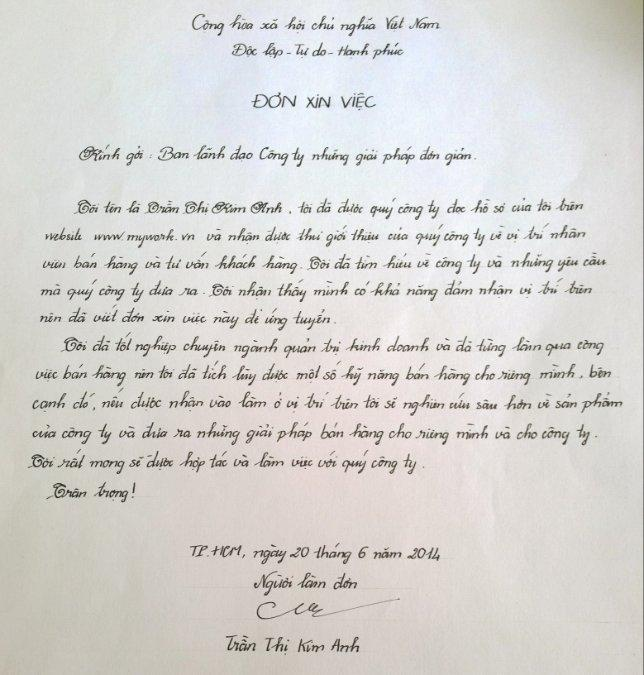text: (31, 387, 624, 418), (34, 357, 613, 388), (43, 220, 587, 250), (31, 419, 598, 447), (59, 331, 606, 360), (38, 276, 594, 304), (41, 251, 608, 277), (71, 196, 586, 221), (27, 448, 426, 476), (77, 142, 478, 169), (37, 303, 338, 333), (189, 11, 443, 40), (189, 541, 443, 566), (255, 595, 402, 622), (230, 40, 406, 60), (223, 633, 361, 657), (251, 569, 359, 598), (248, 91, 377, 113), (45, 479, 138, 505)
